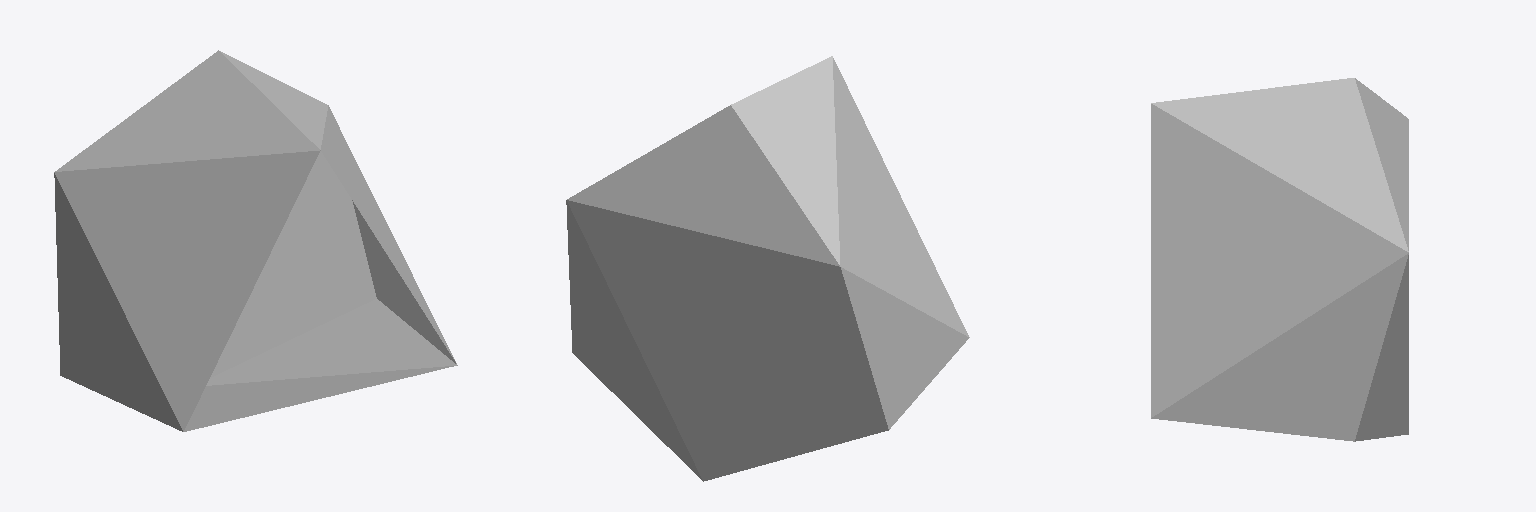
Rendered from tetraHole.obj.
The picture shows the model from 3 angles: view 1: azimuth 30°, elevation 25°; view 2: azimuth 150°, elevation 25°; view 3: azimuth 270°, elevation 25°; orthographic projection.
Bounding box in the file's own units: 1.63 × 1.76 × 1.15.